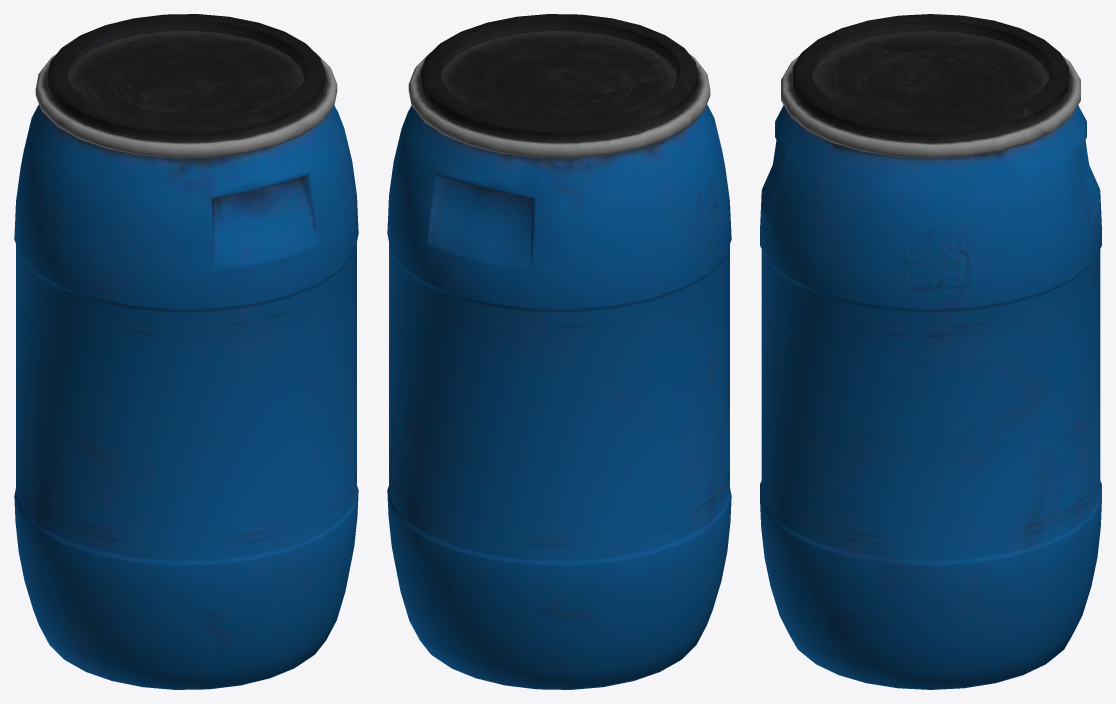
Rendered from Barrel_02.glb.
The picture shows the model from 3 angles, left to right: view 1: azimuth 30°, elevation 25°; view 2: azimuth 150°, elevation 25°; view 3: azimuth 270°, elevation 25°; orthographic projection.
Parts seen in each view (by area): view 1: Barrel_02; view 2: Barrel_02; view 3: Barrel_02.
Part boxes in pixels (bbox=[...]): Barrel_02: bbox=[14, 14, 358, 689]; Barrel_02: bbox=[387, 14, 731, 689]; Barrel_02: bbox=[760, 14, 1101, 689].
Size of the model in its own units: 0.4882 by 0.88 by 0.4846.
Materials: 1 (1 with a texture image).
